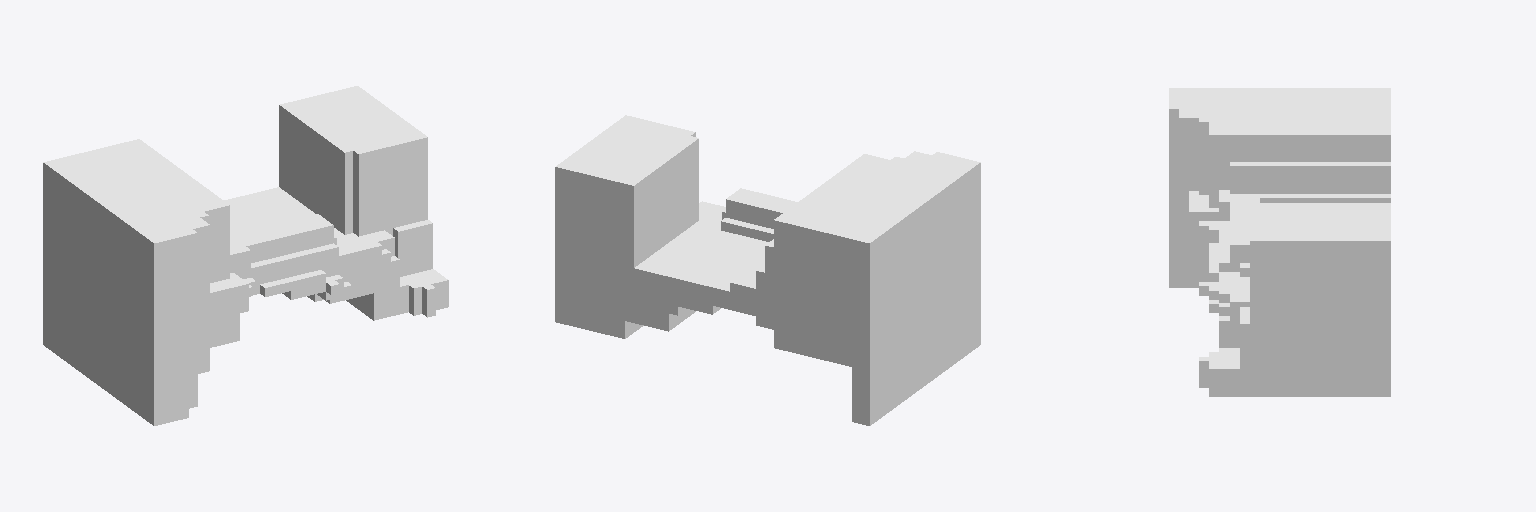
File: beach3.obj
3 views of the same model, side by side, from view 1: azimuth 30°, elevation 25°; view 2: azimuth 150°, elevation 25°; view 3: azimuth 270°, elevation 25° (orthographic).
Parts seen in each view (by area): view 1: object 1; view 2: object 1; view 3: object 1.
Part boxes in pixels (x1,y1,x2,y2): object 1: (43, 86, 448, 425); object 1: (555, 115, 980, 425); object 1: (1169, 88, 1390, 396).
Bounding box in the file's own units: 3.6 × 2 × 2.2.